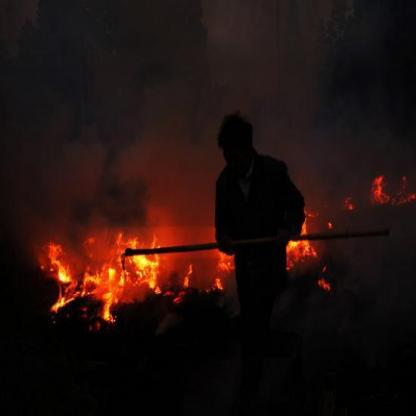fire: (39, 228, 168, 326), (356, 164, 412, 204), (287, 223, 320, 267), (208, 249, 237, 296)
smoke: (85, 131, 147, 222)
